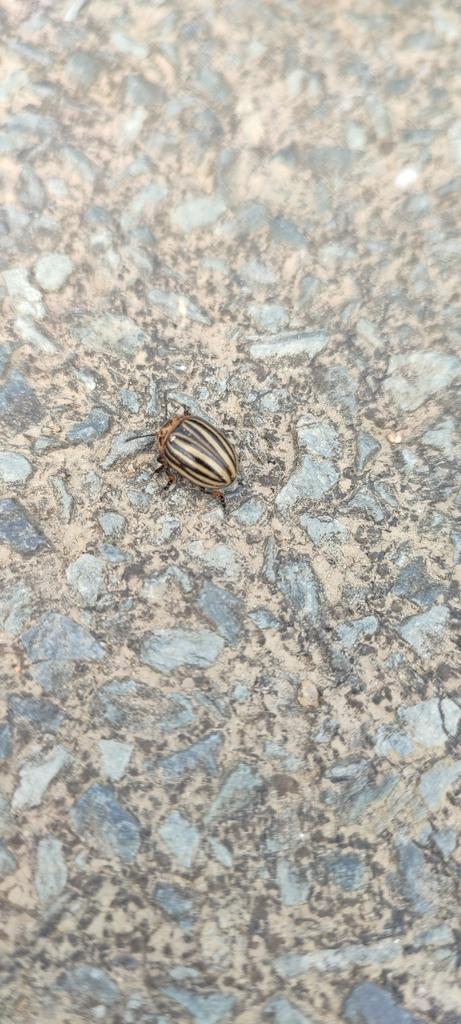potato_beetle: (105, 369, 289, 526)
